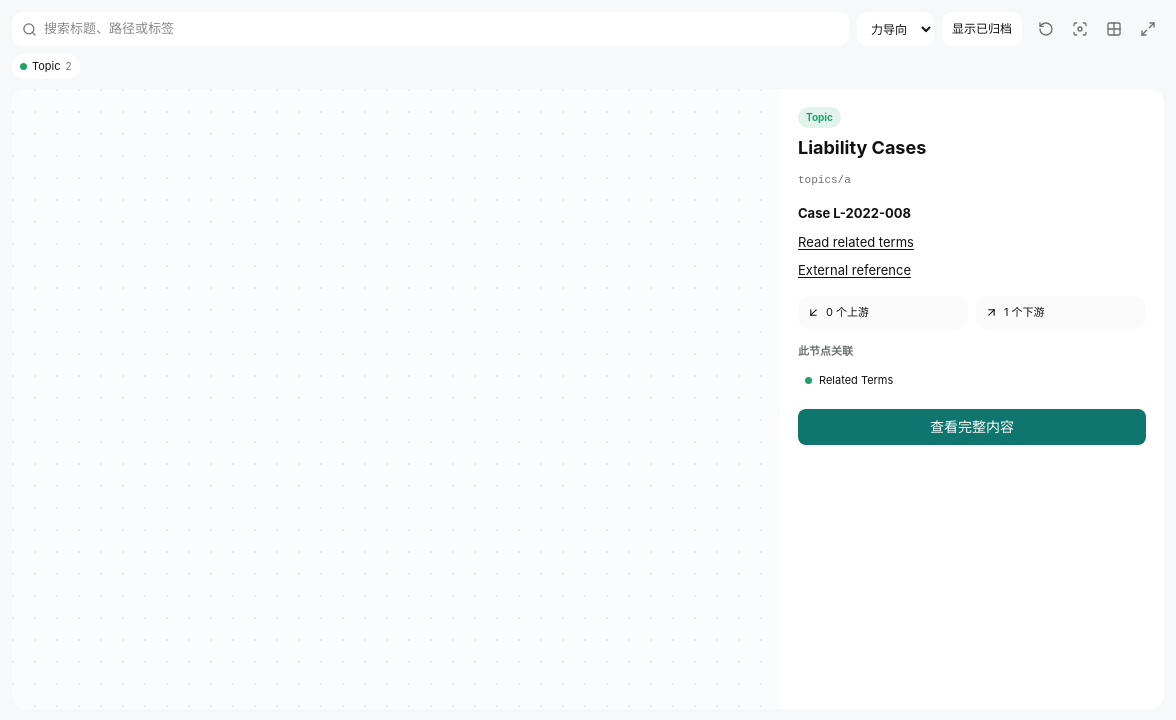
Test: KnowledgeGraphVisualization › renders a safe Markdown summary and navigates resolvable graph links
Expected: the number of headings "Liability Cases" is 1, x1=798 y1=136 x2=926 y2=158
Click the button "Read related terms" at (856, 242), box x1=798 y1=232 x2=914 y2=253
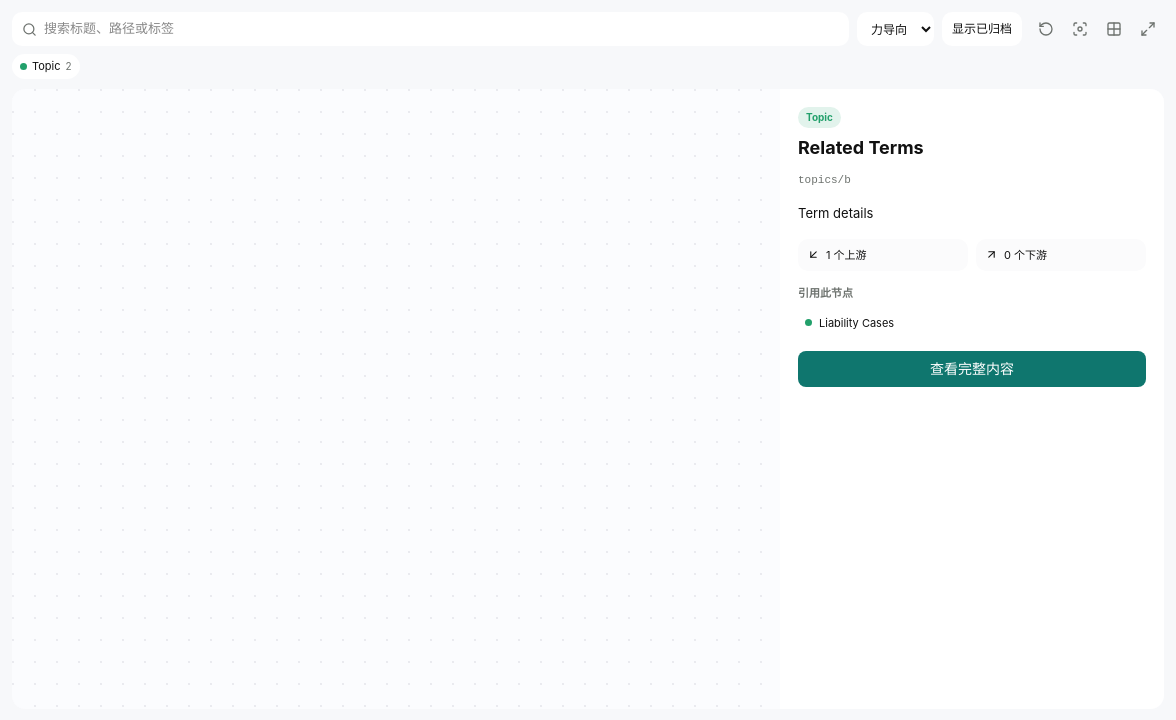
Result: the heading "Related Terms" is shown at x1=798 y1=136 x2=924 y2=158
Result: the text "Term details" is shown at x1=798 y1=205 x2=873 y2=221
